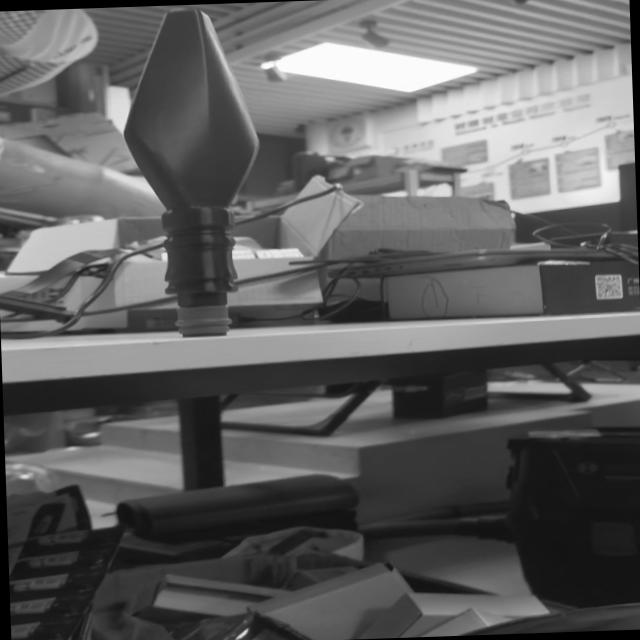base: (169, 298, 237, 342)
